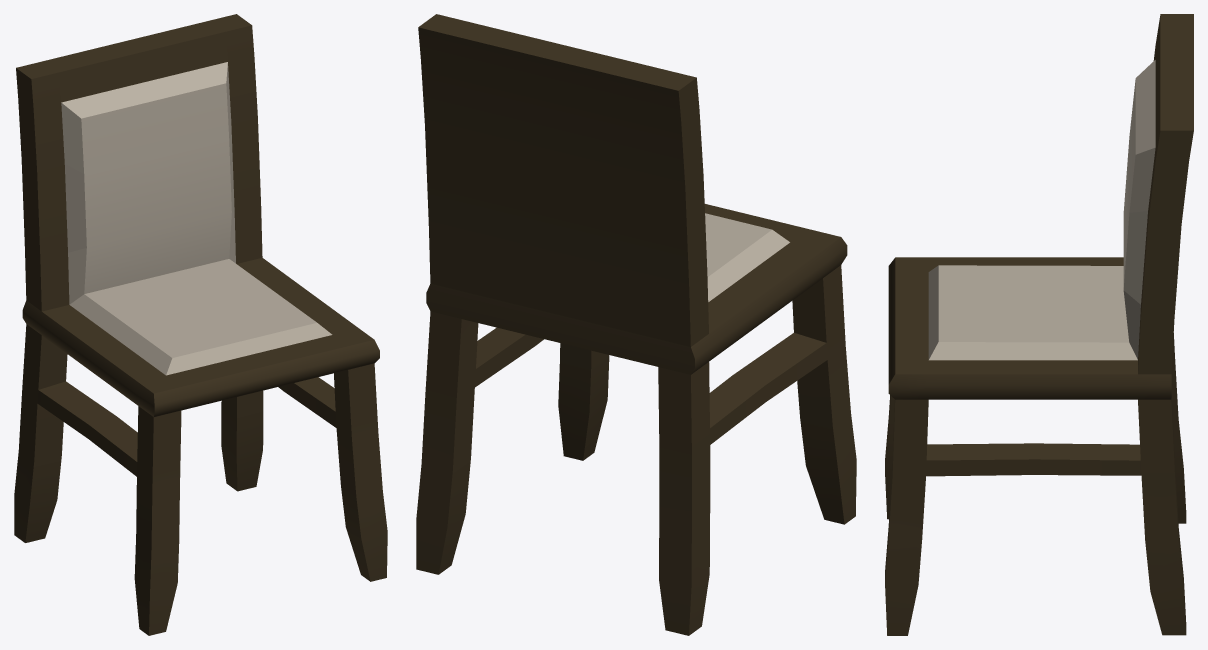
The model's file is Sushi_chair.fbx.
3 views of the same model, side by side, from view 1: azimuth 30°, elevation 25°; view 2: azimuth 150°, elevation 25°; view 3: azimuth 270°, elevation 25° (orthographic). The views are drawn at different scales.
Visible parts, largest first — view 1: pCube1; view 2: pCube1; view 3: pCube1.
Boxes of the visible parts, x1,y1,x2,y2 form: pCube1: (14, 14, 387, 635); pCube1: (416, 14, 856, 635); pCube1: (885, 14, 1193, 635).
Bounding box in the file's own units: 25.63 × 47.69 × 26.6.
